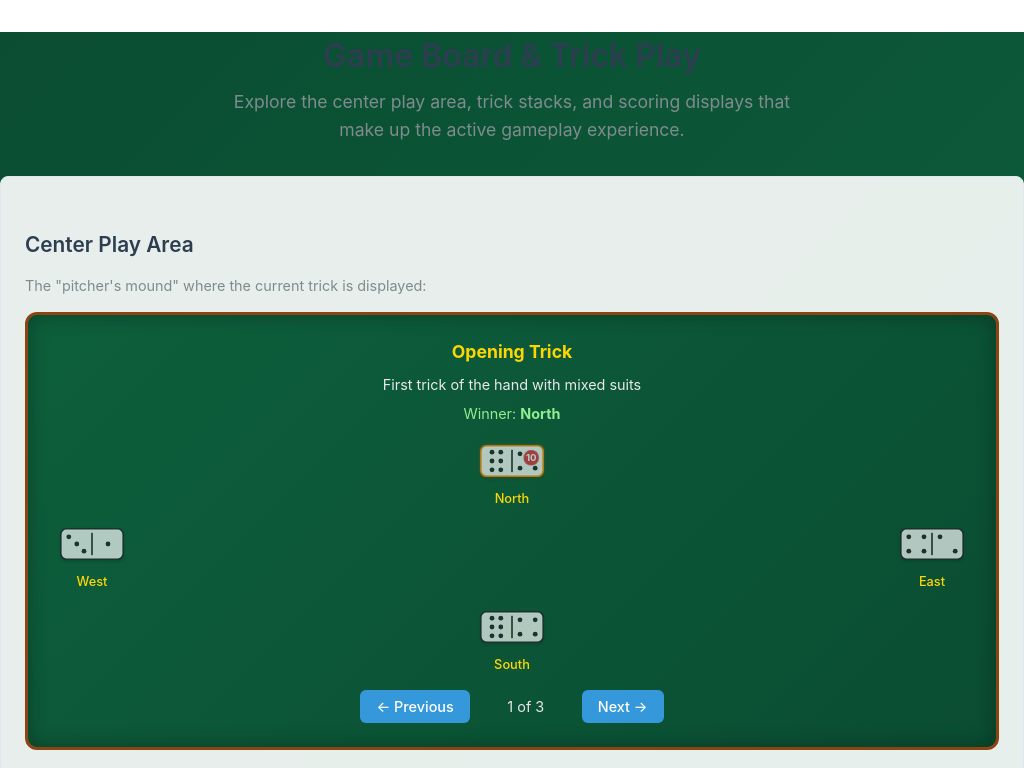
Scenario: GameBoardSection - Trick Cycling › cycles to previous trick when previous button is clicked
The width and height of the screenshot is (1024, 768).
Click next to go to second trick
Click the button with test id "next-trick-button".
click(623, 707)  # box [582,690,664,723]
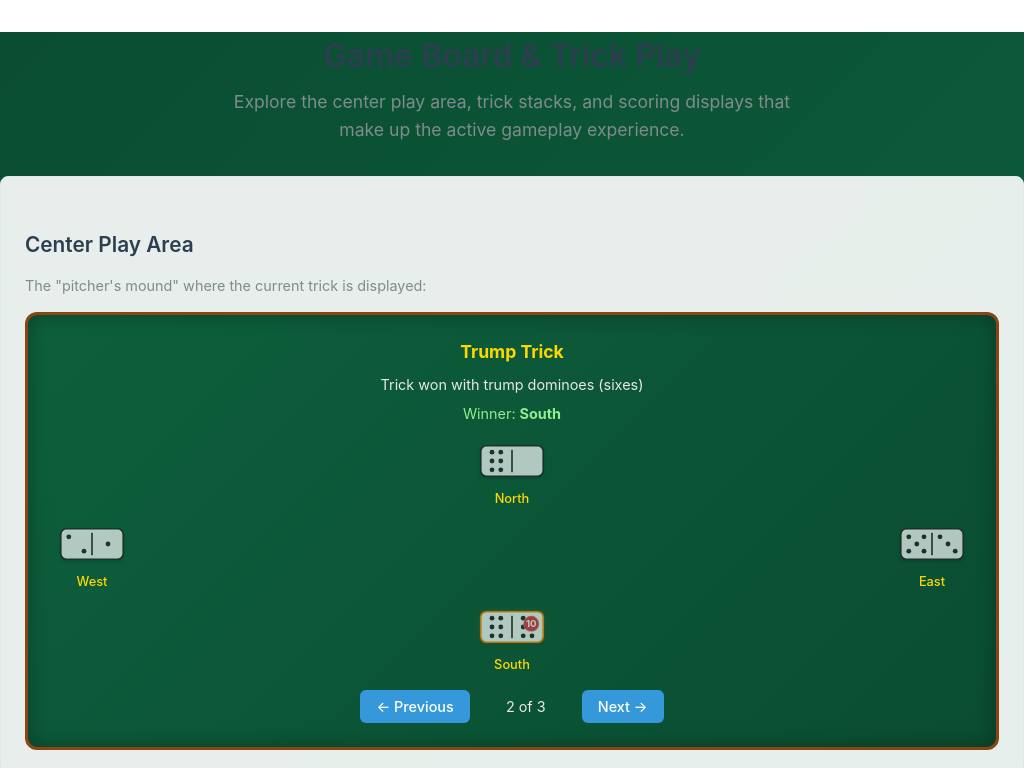
Result: the heading "Trump Trick" is shown at [460,341,564,362]
Click previous to go back to first trick
Click the button with test id "prev-trick-button".
click(415, 707)  # box [360,690,470,723]
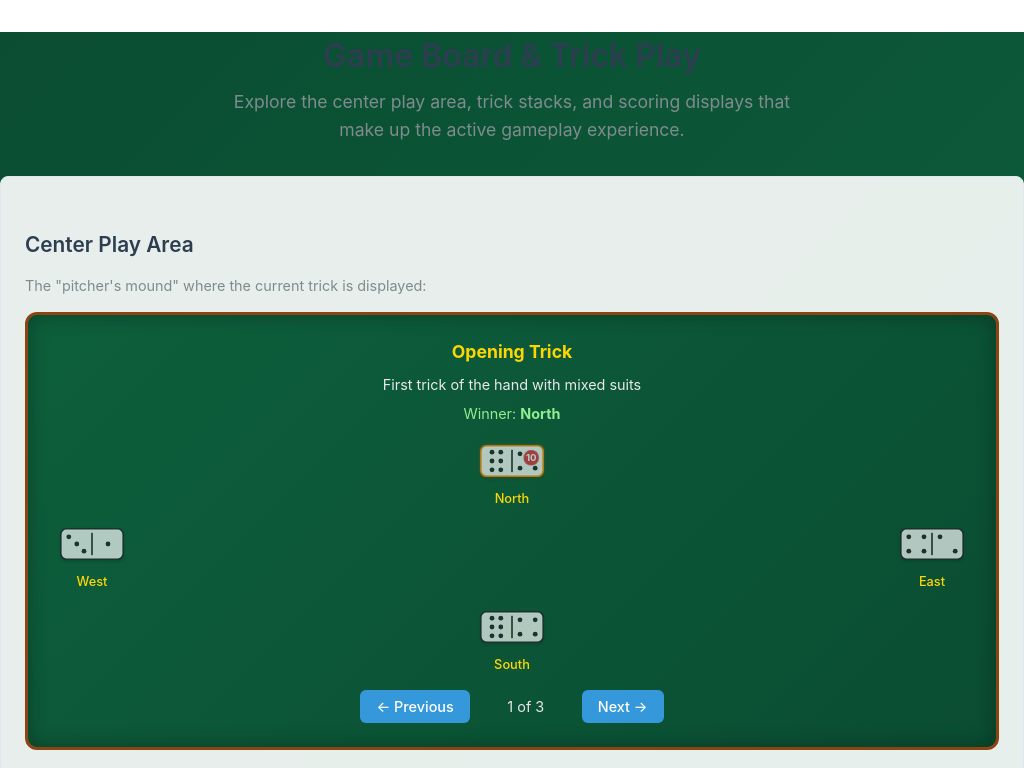
Result: the heading "Opening Trick" is shown at [452,341,572,362]
Result: the text "1 of 3" is shown at [507,698,544,715]
